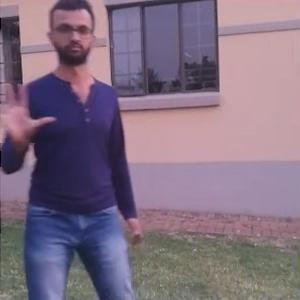follow_hand: (0, 77, 55, 155)
